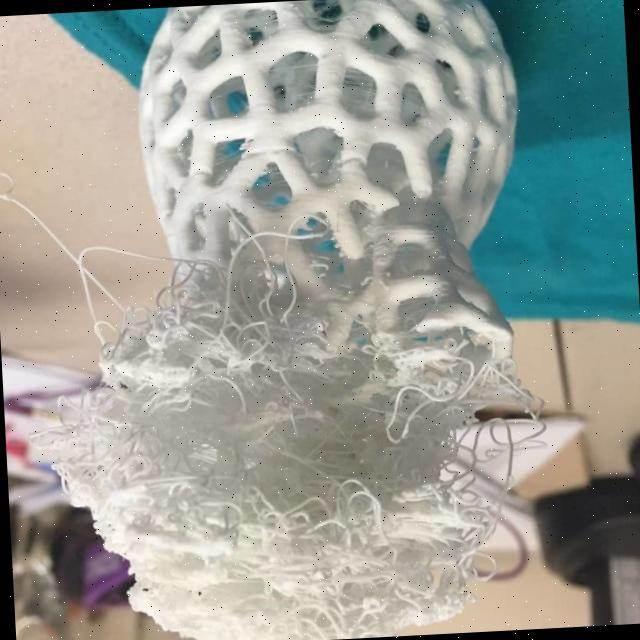spaghetti: (39, 242, 576, 640)
